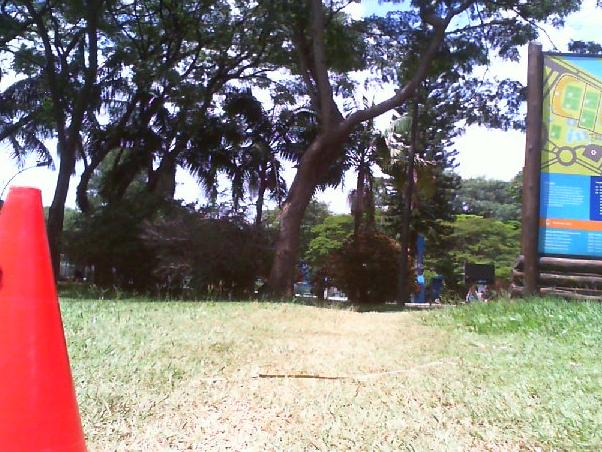0 cone: (0, 186, 89, 452)
